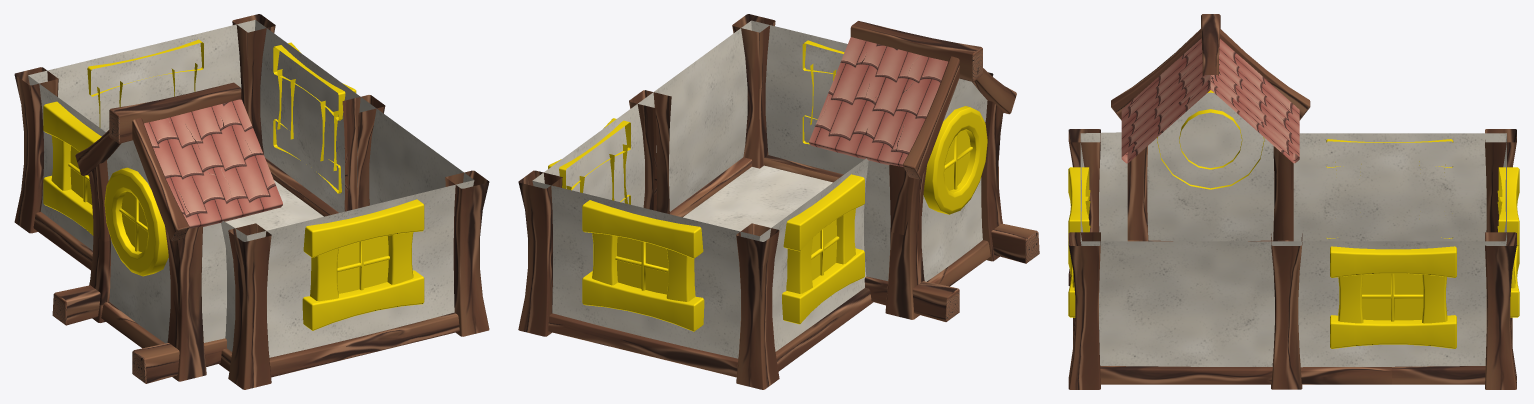
The model's file is house_top_floor3.FBX.
The picture shows the model from 3 angles, left to right: view 1: azimuth 30°, elevation 25°; view 2: azimuth 150°, elevation 25°; view 3: azimuth 270°, elevation 25°; orthographic projection. The views are drawn at different scales.
Parts seen in each view (by area): view 1: top_floor003; view 2: top_floor003; view 3: top_floor003.
Boxes of the visible parts, x1=… form: top_floor003: x1=14, y1=14, x2=489, y2=389; top_floor003: x1=518, y1=14, x2=1039, y2=389; top_floor003: x1=1068, y1=14, x2=1519, y2=389.
Size of the model in its own units: 462 by 330 by 580.
